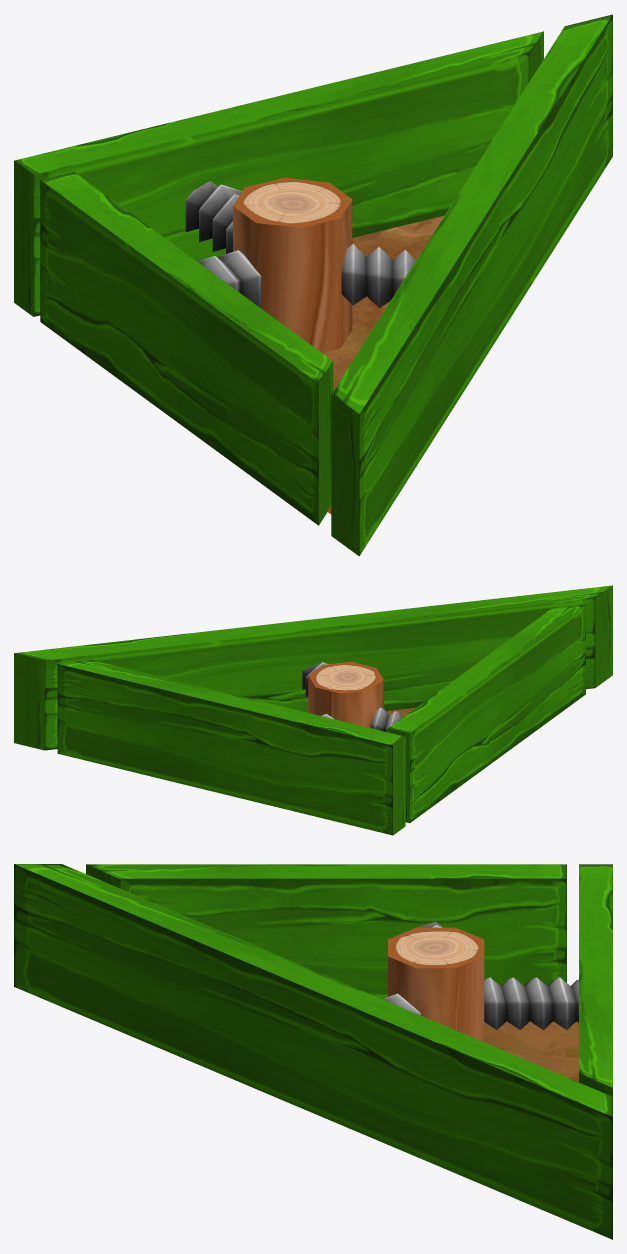
Rendered from triangle_green_03.fbx.
3 renders of one model, top to bottom at view 1: azimuth 30°, elevation 25°; view 2: azimuth 150°, elevation 25°; view 3: azimuth 270°, elevation 25°, orthographic. The views are drawn at different scales.
Parts seen in each view (by area): view 1: triangle_green_03; view 2: triangle_green_03; view 3: triangle_green_03.
Part boxes in pixels (x1=…): triangle_green_03: x1=14, y1=14, x2=612, y2=556; triangle_green_03: x1=14, y1=585, x2=612, y2=835; triangle_green_03: x1=14, y1=864, x2=612, y2=1239.
Bounding box in the file's own units: 177 × 40 × 177.
